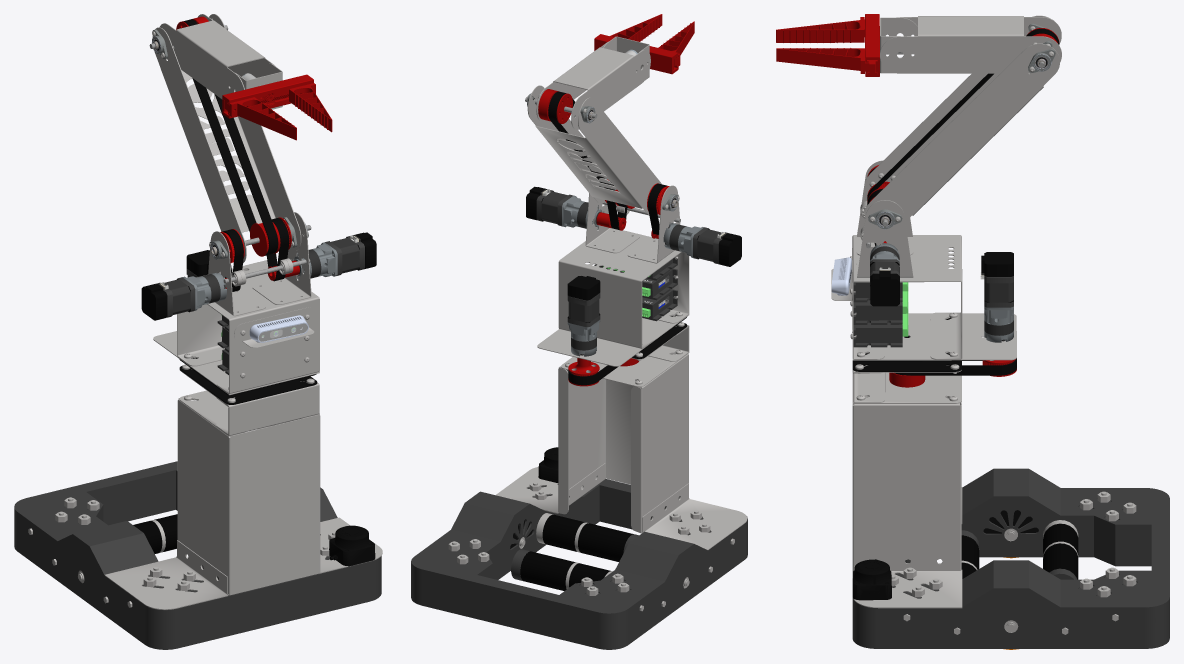
The model's file is robot-completo.glb.
The picture shows the model from 3 angles, left to right: view 1: azimuth 30°, elevation 25°; view 2: azimuth 150°, elevation 25°; view 3: azimuth 270°, elevation 25°; orthographic projection. The views are drawn at different scales.
Parts seen in each view (by area): view 1: Sólido1 (×23), Sólido2 (×3), Sólido3 (×2), Sólido7; view 2: Sólido1 (×23), Sólido2 (×3), Sólido3 (×3), Sólido12 (×2); view 3: Sólido1 (×20), Sólido12 (×2), Sólido2 (×2), Sólido7, Sólido3.
Part boxes in pixels (x1,y1,x2,y2): Sólido1 (×23): [14, 14, 382, 649]; Sólido2 (×3): [141, 232, 376, 320]; Sólido3 (×2): [164, 237, 359, 314]; Sólido7: [249, 315, 308, 342]; Sólido1 (×23): [411, 14, 747, 649]; Sólido2 (×3): [526, 186, 741, 305]; Sólido3 (×3): [541, 191, 720, 322]; Sólido12 (×2): [642, 268, 677, 321]; Sólido1 (×20): [776, 14, 1169, 649]; Sólido12 (×2): [853, 300, 902, 347]; Sólido2 (×2): [870, 252, 1013, 306]; Sólido7: [831, 257, 851, 295]; Sólido3: [984, 282, 1013, 302].
Size of the model in its own units: 0.406 by 0.9008 by 0.5571.
Materials: 46 (1 with a texture image).
